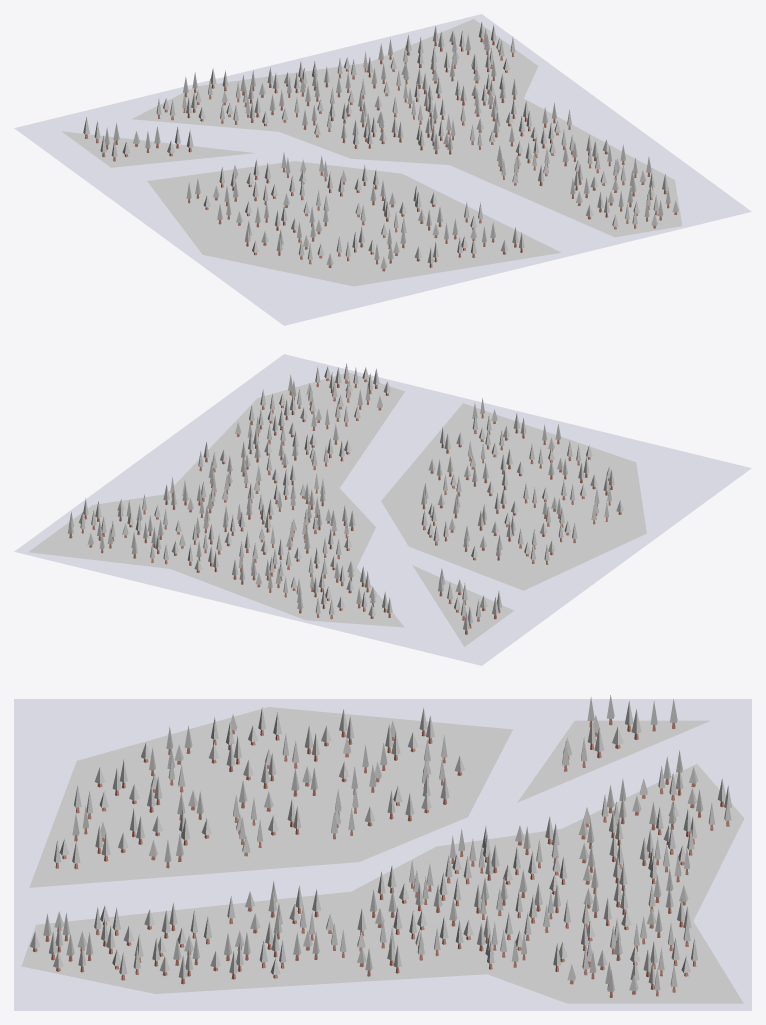
Rendered from Forest.fbx.
3 renders of one model, top to bottom at view 1: azimuth 30°, elevation 25°; view 2: azimuth 150°, elevation 25°; view 3: azimuth 270°, elevation 25°, orthographic. The views are drawn at different scales.
Parts seen in each view (by area): view 1: Forest; view 2: Forest; view 3: Forest.
Part boxes in pixels (bbox=[...]): Forest: bbox=[14, 14, 751, 325]; Forest: bbox=[14, 354, 751, 665]; Forest: bbox=[14, 695, 751, 1010].
Bounding box in the file's own units: 98425 × 4548 × 98425.
